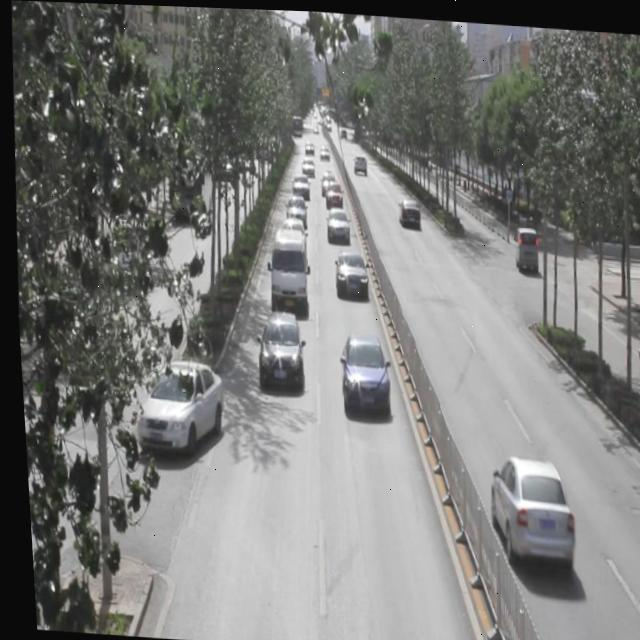car: (478, 446, 565, 565), (332, 327, 387, 412), (253, 305, 301, 387), (327, 245, 364, 294), (277, 211, 302, 247), (322, 202, 346, 238), (395, 190, 416, 225), (281, 191, 303, 222), (321, 176, 341, 205), (288, 169, 307, 196)
truck: (263, 222, 305, 300), (510, 219, 536, 265)
